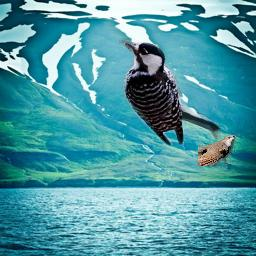Cuckoo: (198, 135, 238, 166)
Woodpecker: (119, 38, 221, 146)
